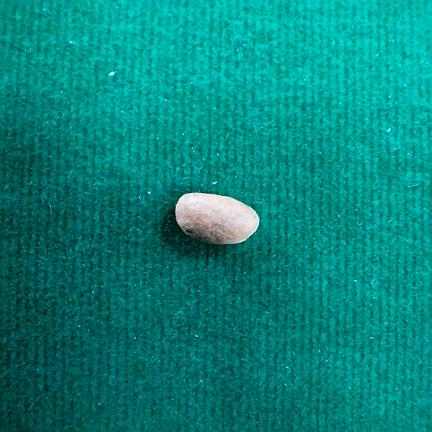shell: (175, 193, 259, 244)
